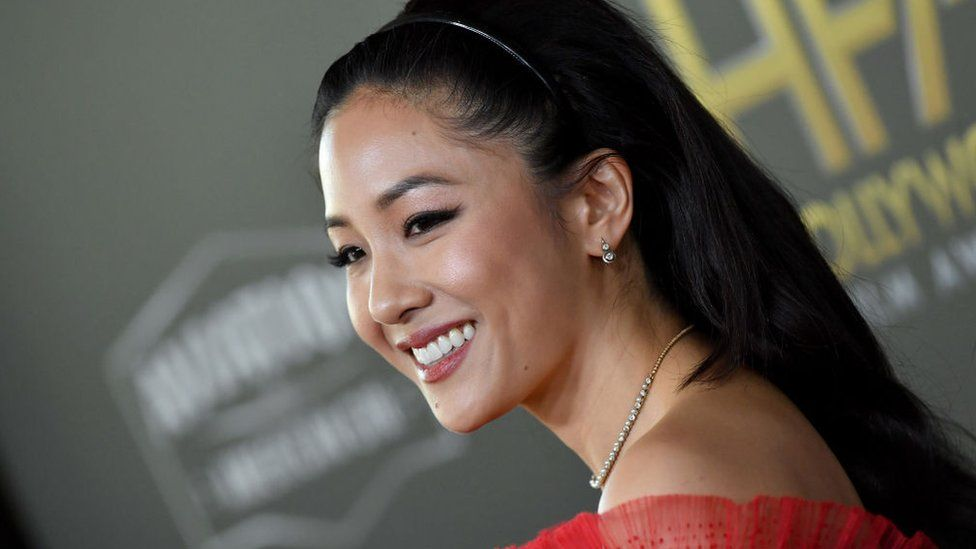NoMask: (325, 164, 561, 435)
